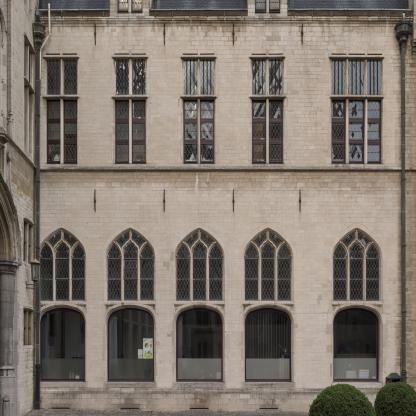Building Outline: (35, 17, 415, 412)
Cornice: (329, 54, 385, 59), (330, 94, 385, 99), (111, 94, 149, 99), (111, 54, 149, 59), (249, 94, 287, 99), (43, 94, 80, 99), (43, 54, 80, 59), (180, 94, 217, 99), (180, 54, 217, 59), (249, 54, 286, 59)
Facade: (35, 1, 416, 411)
Floor Slab: (36, 190, 416, 200)
Ground Floor: (36, 200, 416, 411)
Molding: (35, 16, 413, 27)
Top Floor: (36, 17, 416, 200)
Window: (173, 227, 225, 303), (331, 227, 383, 302), (35, 227, 87, 302), (104, 227, 156, 302), (242, 227, 293, 303), (176, 308, 223, 382), (108, 308, 154, 382), (245, 308, 291, 382), (333, 308, 378, 382), (40, 308, 85, 382), (348, 100, 364, 164), (183, 100, 198, 164), (367, 100, 381, 164), (332, 100, 346, 164), (132, 100, 146, 164), (116, 100, 130, 164), (201, 100, 215, 164), (269, 100, 283, 164), (252, 100, 266, 164), (64, 100, 77, 164), (47, 100, 60, 164), (348, 59, 364, 95), (331, 59, 346, 95), (183, 59, 198, 95), (268, 59, 283, 95), (367, 59, 381, 95), (132, 59, 146, 95), (115, 59, 129, 95), (200, 59, 214, 95), (252, 59, 266, 95), (63, 60, 77, 95), (46, 60, 60, 95)
dont: (308, 381, 416, 416)
